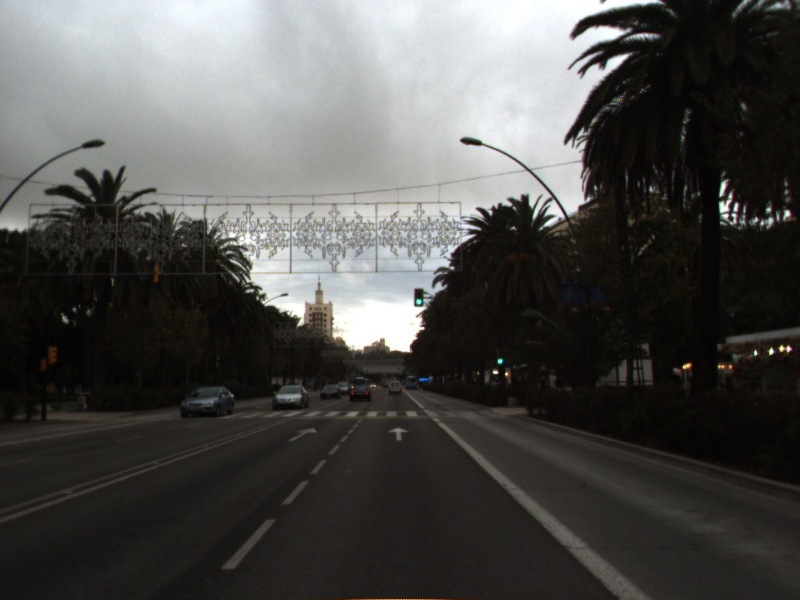STRAIGHT: (286, 425, 319, 443), (385, 425, 412, 443)
